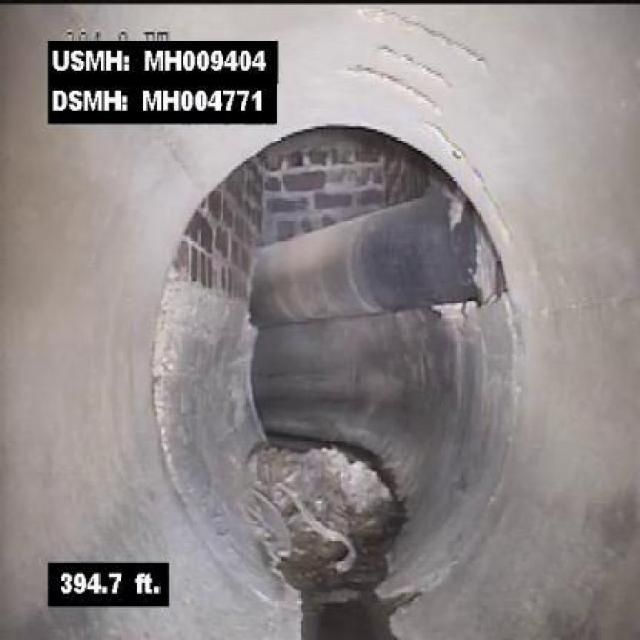Debris: (260, 442, 408, 568)
Utility intrusion: (244, 181, 510, 334)
